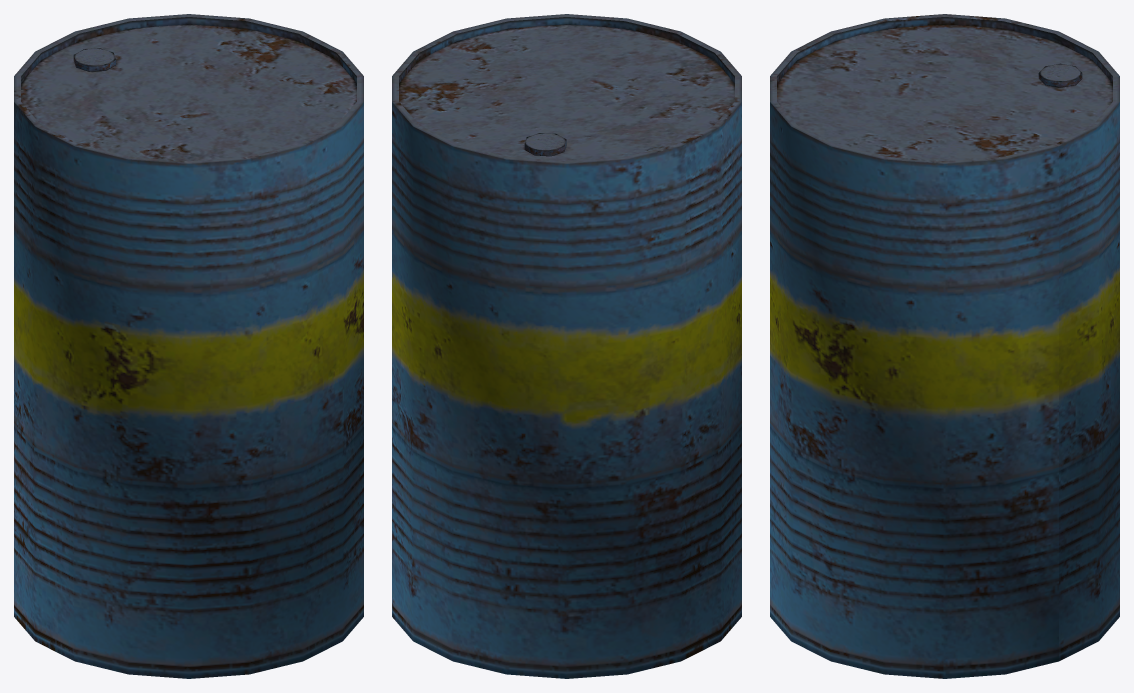
The model's file is Cover_BcYt06.glb.
3 views of the same model, side by side, from view 1: azimuth 30°, elevation 25°; view 2: azimuth 150°, elevation 25°; view 3: azimuth 270°, elevation 25° (orthographic).
Visible parts, largest first — view 1: xiutz_bc_yt_06; view 2: xiutz_bc_yt_06; view 3: xiutz_bc_yt_06.
Boxes of the visible parts, x1,y1,x2,y2 form: xiutz_bc_yt_06: (14, 14, 363, 678); xiutz_bc_yt_06: (392, 14, 741, 678); xiutz_bc_yt_06: (770, 14, 1119, 678).
Size of the model in its own units: 1.11 by 1.78 by 1.09.
1 material, 1 textured.
